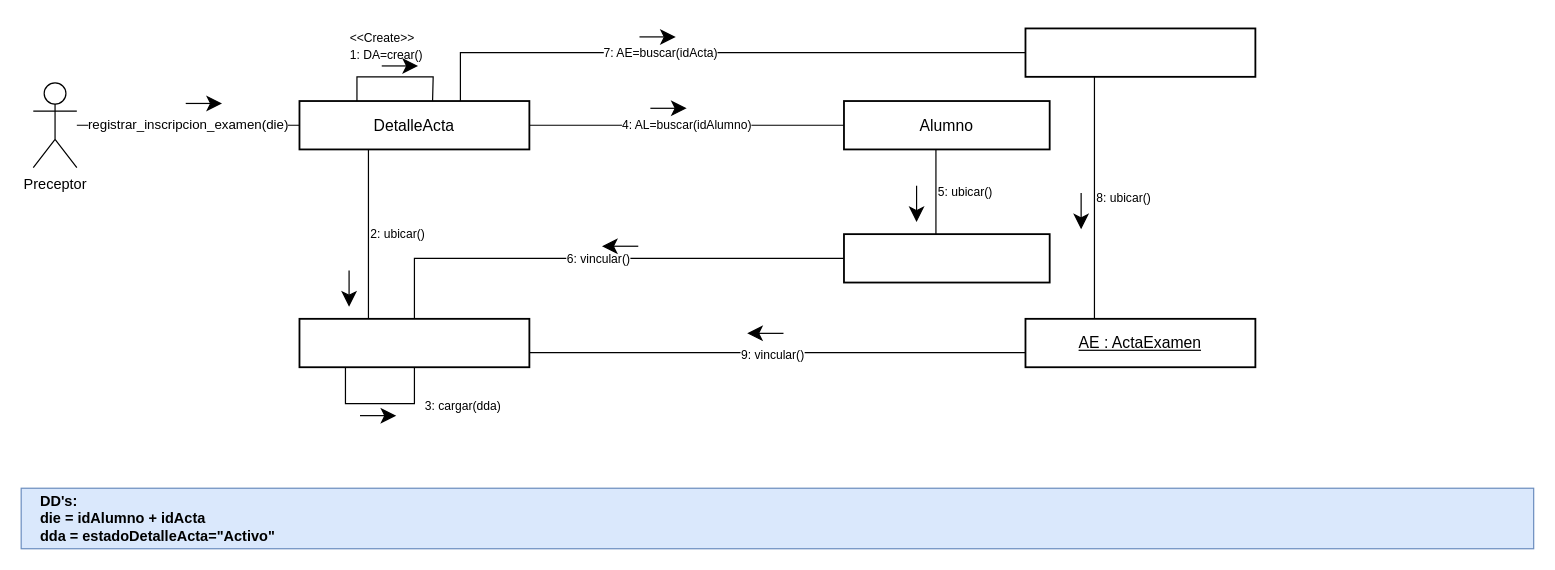
Some shapes in this 1555 by 570 pixel diagram are drawn without their labels. The centre of each missing label's shape, as x and y in pixels:
ActaExamen: point 1140,52
AL : Alumno: point 946,258
DA : DetalleActa: point 414,342
